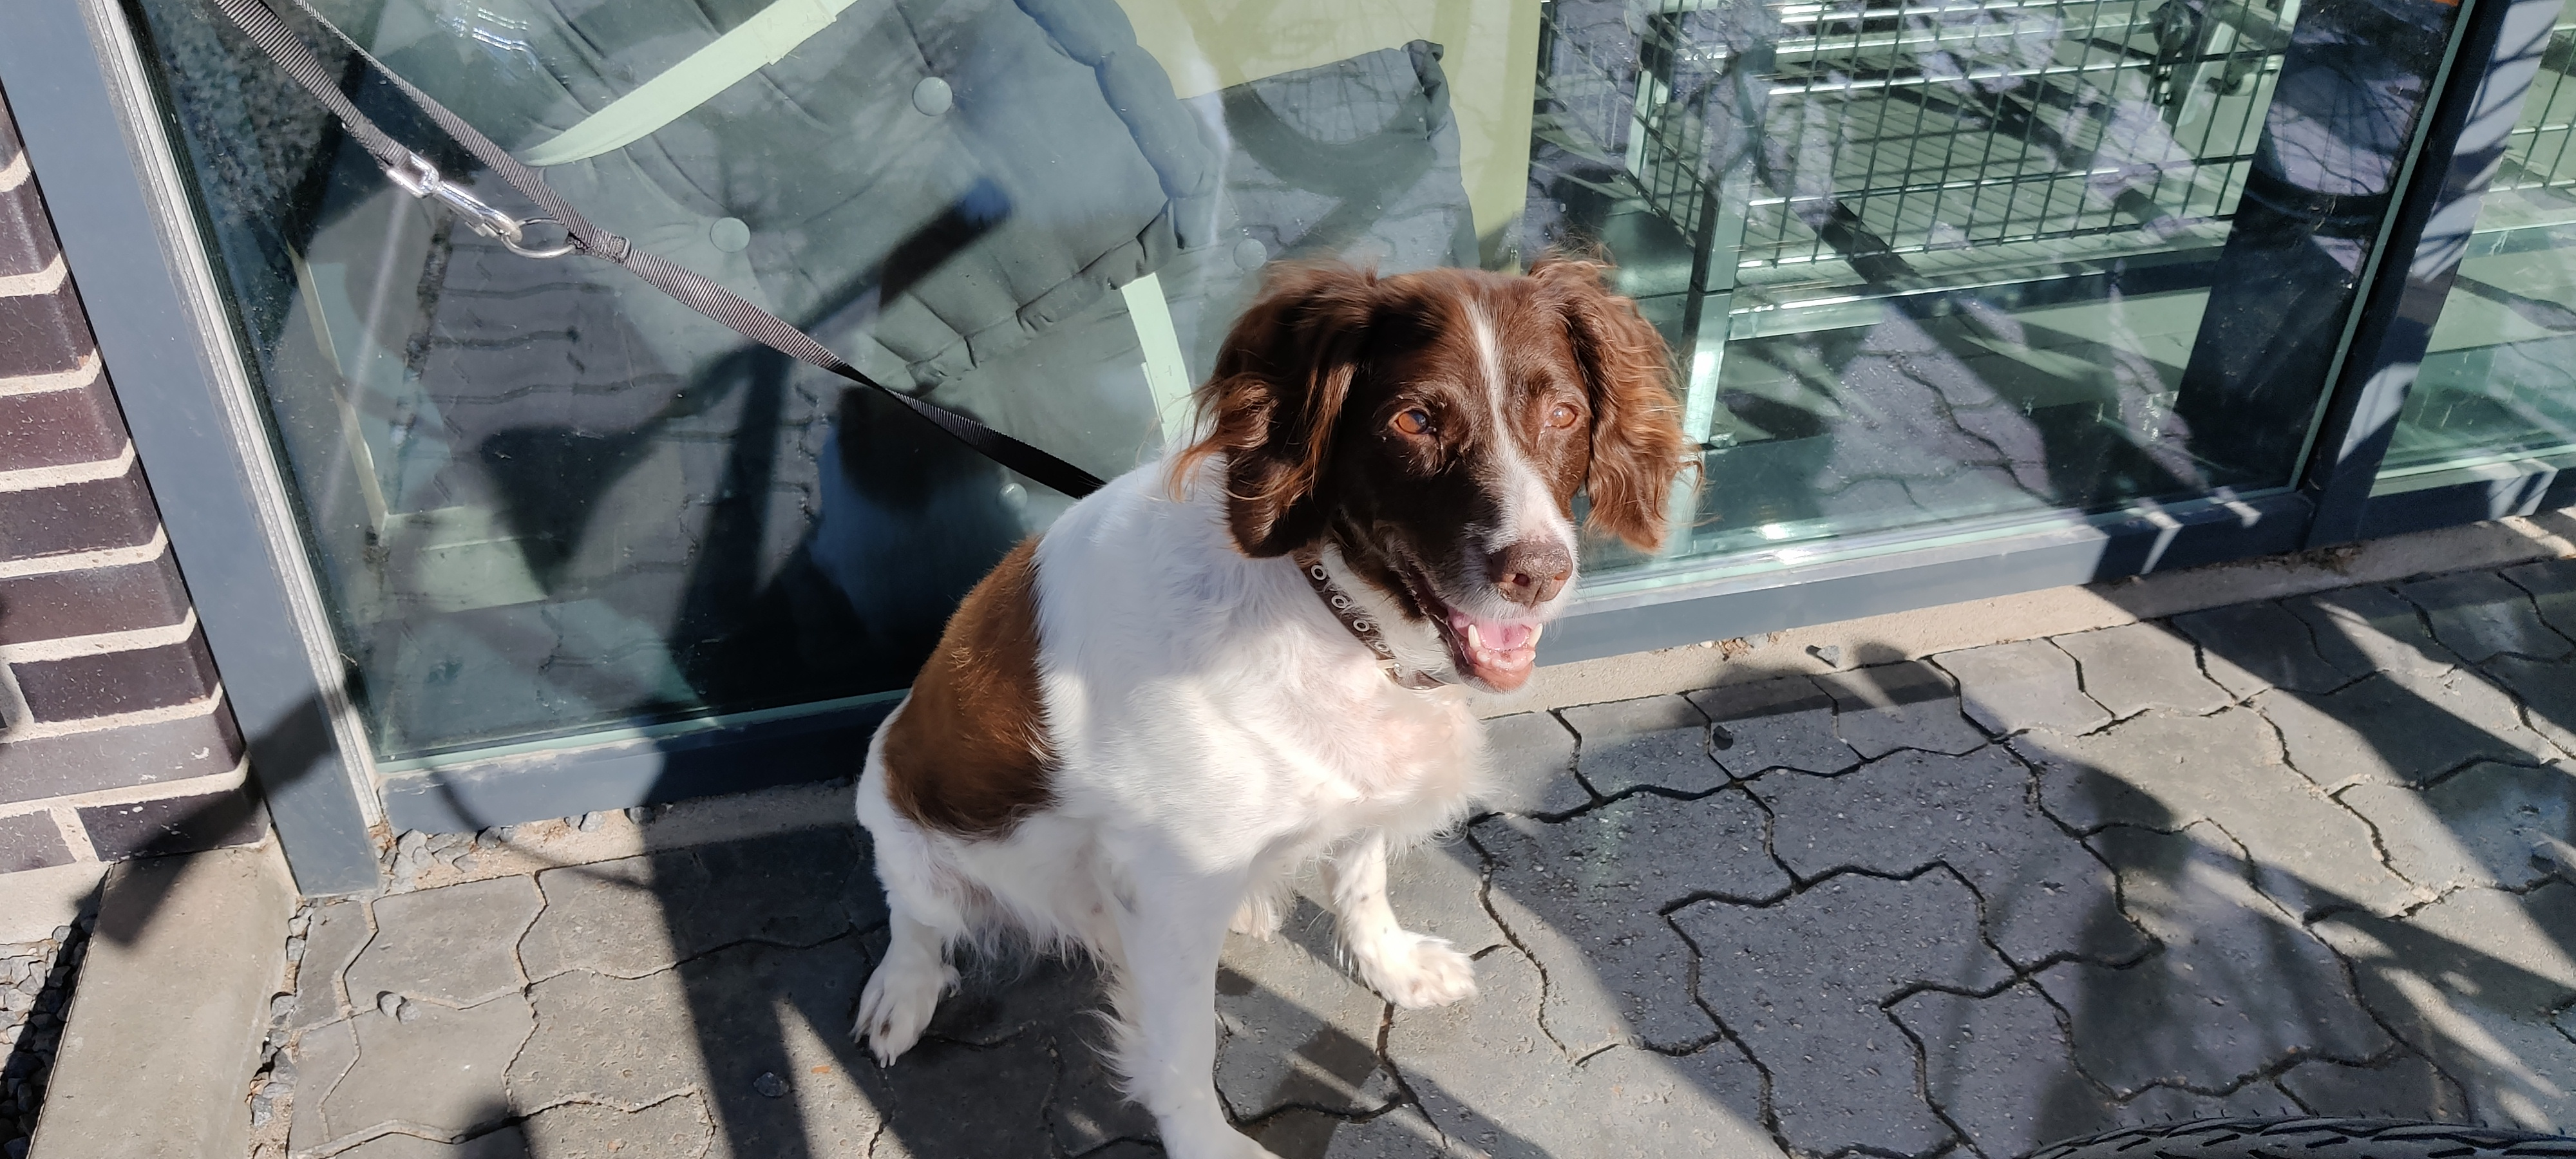Dog: (813, 225, 1730, 1159)
